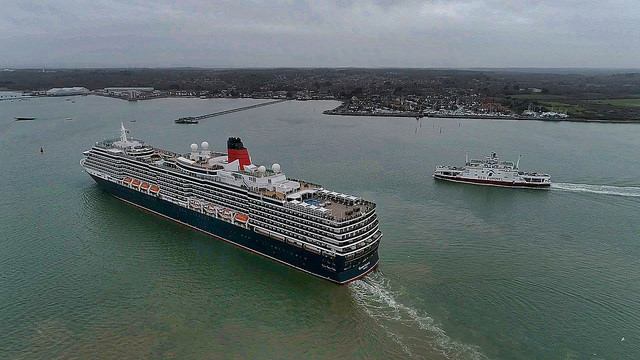boat: (436, 151, 558, 188)
cruise_ship: (79, 126, 383, 285)
